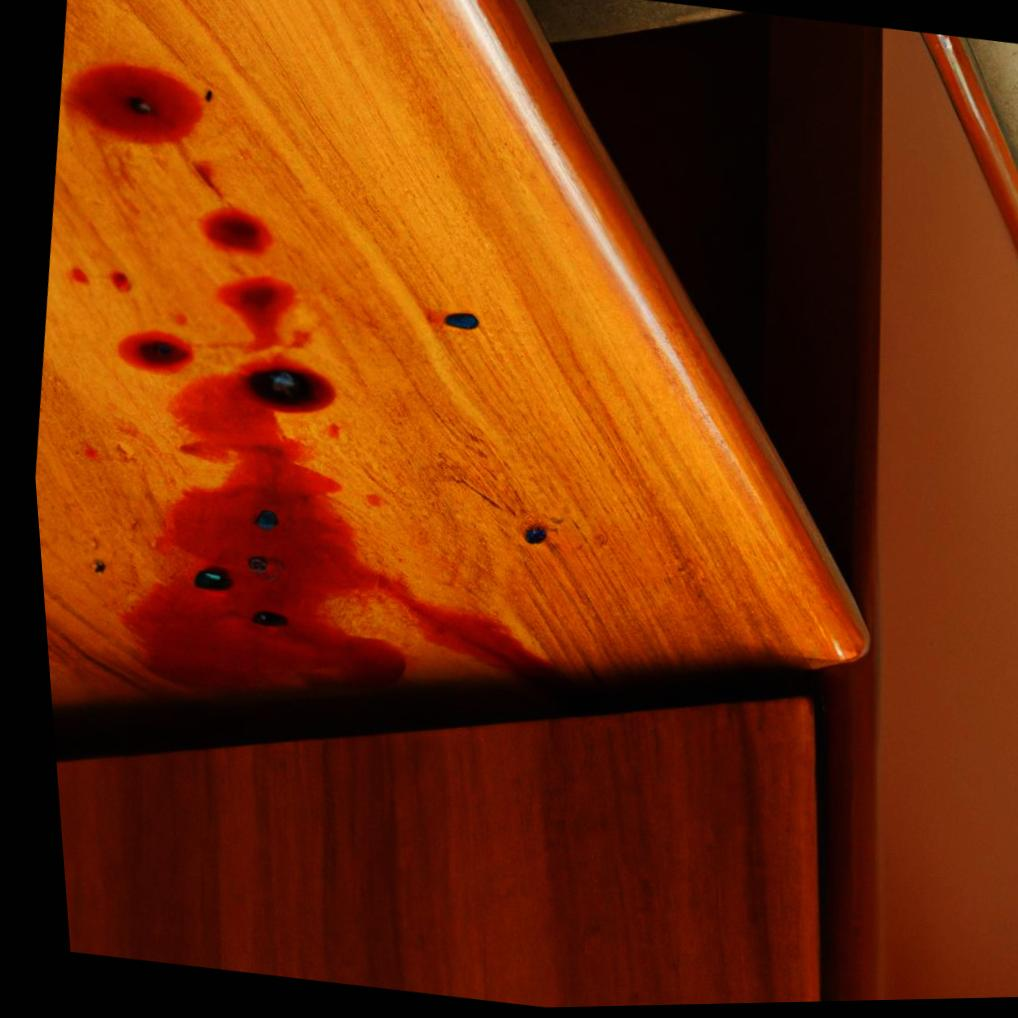Fire: (106, 354, 552, 699), (63, 66, 201, 146), (199, 277, 308, 358), (194, 209, 270, 258), (107, 273, 128, 295), (66, 269, 86, 284)
